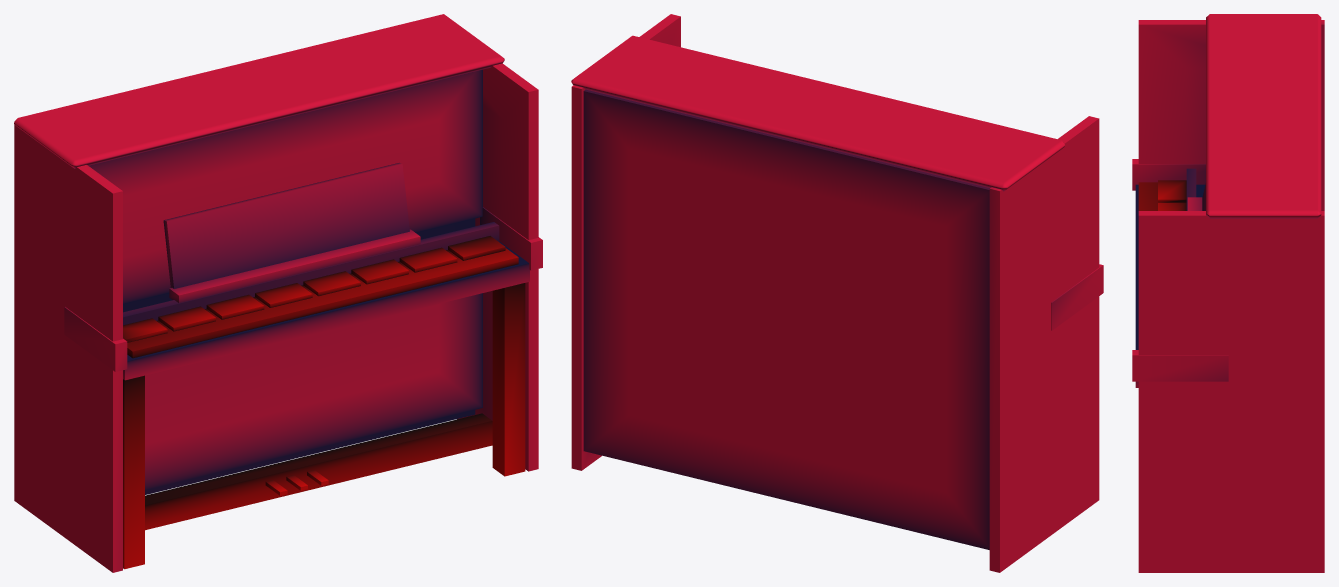
Rendered from CI_Living_Piano_Upright_LOD1.glb.
3 views of the same model, side by side, from view 1: azimuth 30°, elevation 25°; view 2: azimuth 150°, elevation 25°; view 3: azimuth 270°, elevation 25° (orthographic). The views are drawn at different scales.
Parts seen in each view (by area): view 1: CI_Living_Piano_Upright_LOD1; view 2: CI_Living_Piano_Upright_LOD1; view 3: CI_Living_Piano_Upright_LOD1.
Part boxes in pixels (bbox=[...]): CI_Living_Piano_Upright_LOD1: bbox=[14, 14, 542, 572]; CI_Living_Piano_Upright_LOD1: bbox=[571, 14, 1103, 572]; CI_Living_Piano_Upright_LOD1: bbox=[1132, 14, 1324, 572].
Bounding box in the file's own units: 1.47 × 1.25 × 0.6.
